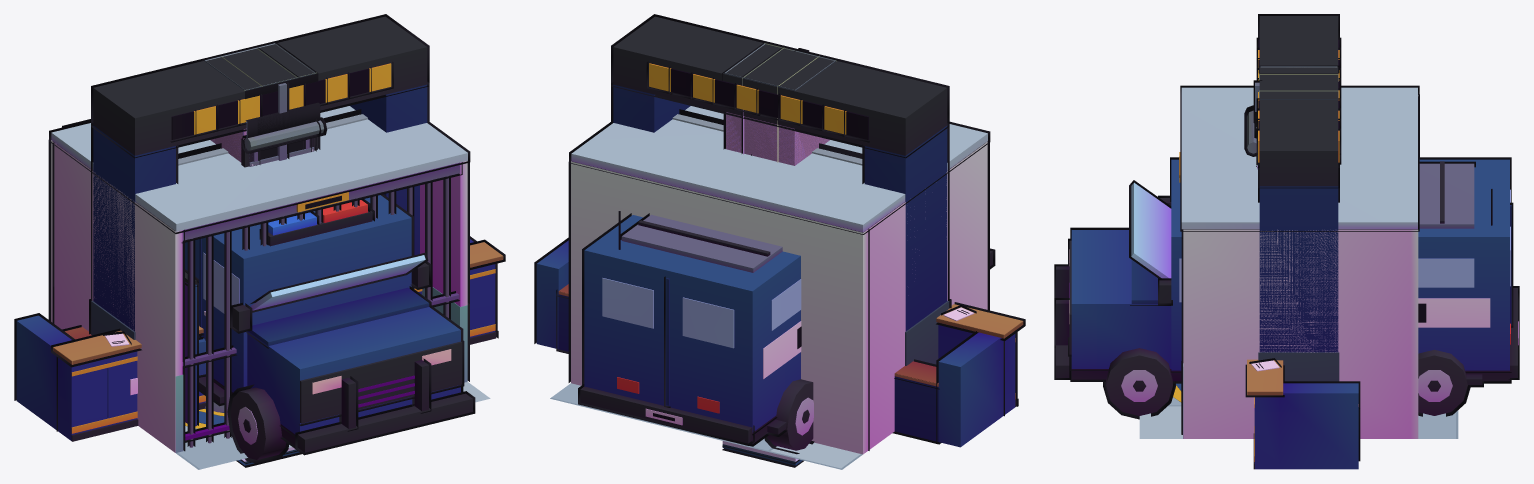
File: fps-kit-police.glb
3 renders of one model, left to right at view 1: azimuth 30°, elevation 25°; view 2: azimuth 150°, elevation 25°; view 3: azimuth 270°, elevation 25°, orthographic. The views are drawn at different scales.
Visible parts, largest first — view 1: KIT_POLICE_Landmark_Cells, KIT_POLICE_Landmark_Van, KIT_POLICE_GateFrame, KIT_POLICE_Landmark_FrontDesk, KIT_POLICE_Emblem, KIT_POLICE_WG_RollerL, KIT_POLICE_GateShutter, KIT_POLICE_WO_ScreenL, KIT_POLICE_Booth, KIT_POLICE_WG_RollerM, KIT_POLICE_CornerA, KIT_POLICE_WO_ScreenM (+2 smaller); view 2: KIT_POLICE_Landmark_Cells, KIT_POLICE_Landmark_Van, KIT_POLICE_GateFrame, KIT_POLICE_Landmark_FrontDesk, KIT_POLICE_CornerA, KIT_POLICE_Emblem, KIT_POLICE_GateShutter, KIT_POLICE_CornerL, KIT_POLICE_Lintel, KIT_POLICE_CornerC; view 3: KIT_POLICE_Landmark_Cells, KIT_POLICE_Landmark_Van, KIT_POLICE_GateFrame, KIT_POLICE_Landmark_FrontDesk, KIT_POLICE_Emblem.
Part boxes in pixels (x1,y1,x2,y2): KIT_POLICE_Landmark_Cells: [48, 106, 470, 452]; KIT_POLICE_Landmark_Van: [62, 119, 475, 463]; KIT_POLICE_GateFrame: [89, 14, 429, 339]; KIT_POLICE_Landmark_FrontDesk: [14, 236, 505, 441]; KIT_POLICE_Emblem: [176, 382, 490, 469]; KIT_POLICE_WG_RollerL: [241, 73, 320, 167]; KIT_POLICE_GateShutter: [178, 109, 367, 165]; KIT_POLICE_WO_ScreenL: [252, 117, 327, 152]; KIT_POLICE_Booth: [185, 269, 198, 426]; KIT_POLICE_WG_RollerM: [246, 103, 320, 138]; KIT_POLICE_CornerA: [202, 42, 318, 162]; KIT_POLICE_WO_ScreenM: [244, 121, 323, 152]; KIT_POLICE_Landmark_Cells: [568, 106, 990, 454]; KIT_POLICE_Landmark_Van: [578, 211, 995, 454]; KIT_POLICE_GateFrame: [611, 14, 951, 365]; KIT_POLICE_Landmark_FrontDesk: [534, 237, 1025, 447]; KIT_POLICE_CornerA: [722, 42, 838, 165]; KIT_POLICE_Emblem: [550, 383, 862, 469]; KIT_POLICE_GateShutter: [672, 109, 862, 165]; KIT_POLICE_CornerL: [722, 42, 837, 165]; KIT_POLICE_Lintel: [722, 441, 803, 467]; KIT_POLICE_CornerC: [723, 112, 827, 164]; KIT_POLICE_Landmark_Cells: [1179, 85, 1419, 438]; KIT_POLICE_Landmark_Van: [1054, 157, 1519, 419]; KIT_POLICE_GateFrame: [1256, 14, 1341, 381]; KIT_POLICE_Landmark_FrontDesk: [1245, 358, 1360, 469]; KIT_POLICE_Emblem: [1139, 383, 1458, 438].
Size of the model in its own units: 5.94 by 4.93 by 5.84.
Materials: 1 (1 with a texture image).
